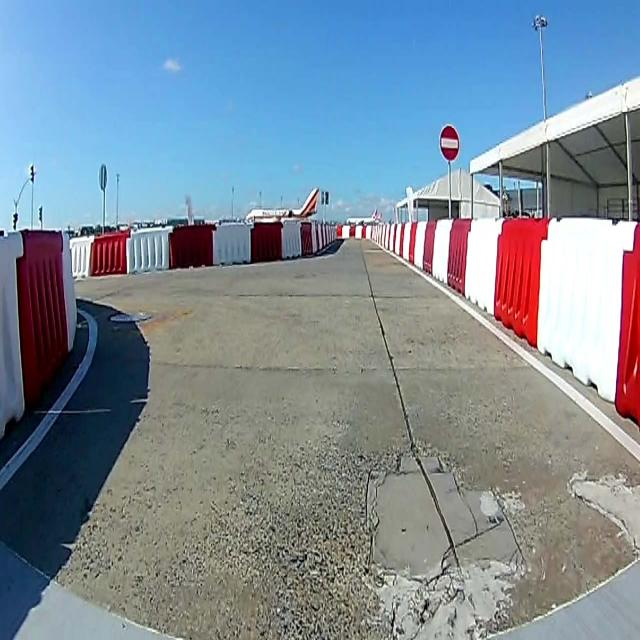girisyok: (439, 125, 459, 162)
